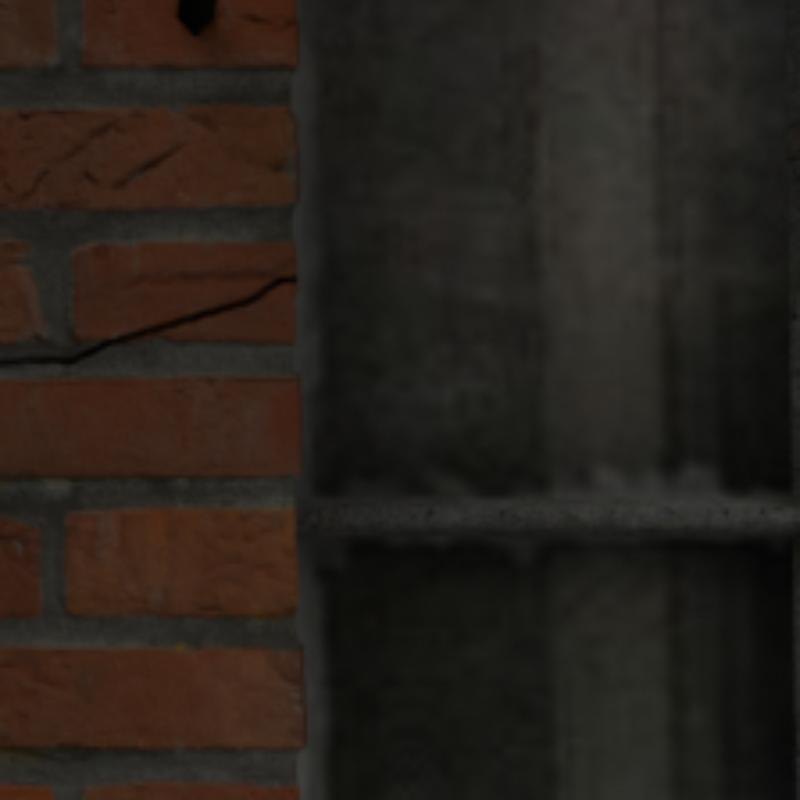crack: (0, 275, 300, 368)
